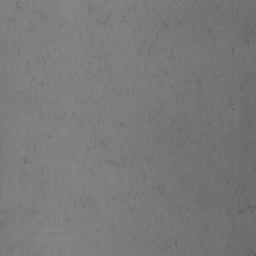Silk spot: (237, 196, 256, 214), (239, 22, 250, 45), (168, 8, 182, 24), (156, 16, 170, 30), (73, 198, 95, 206), (152, 181, 165, 194), (106, 160, 123, 169)
